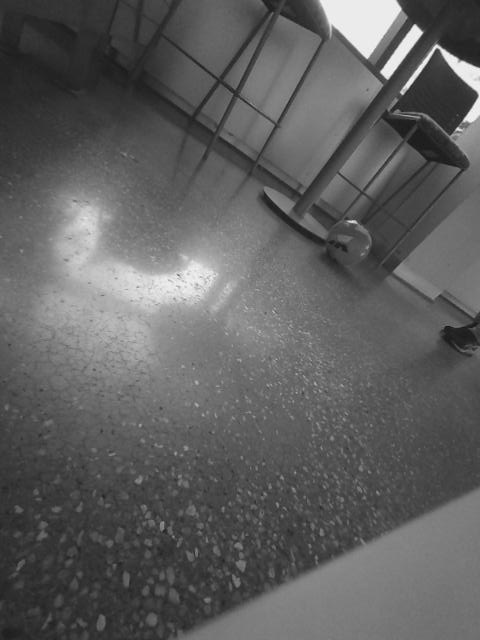ball: (130, 231, 182, 284)
